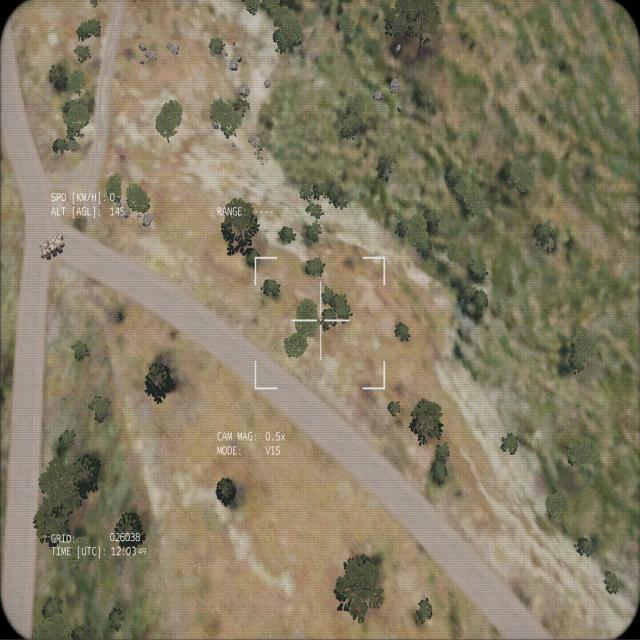apc: (37, 233, 66, 262)
